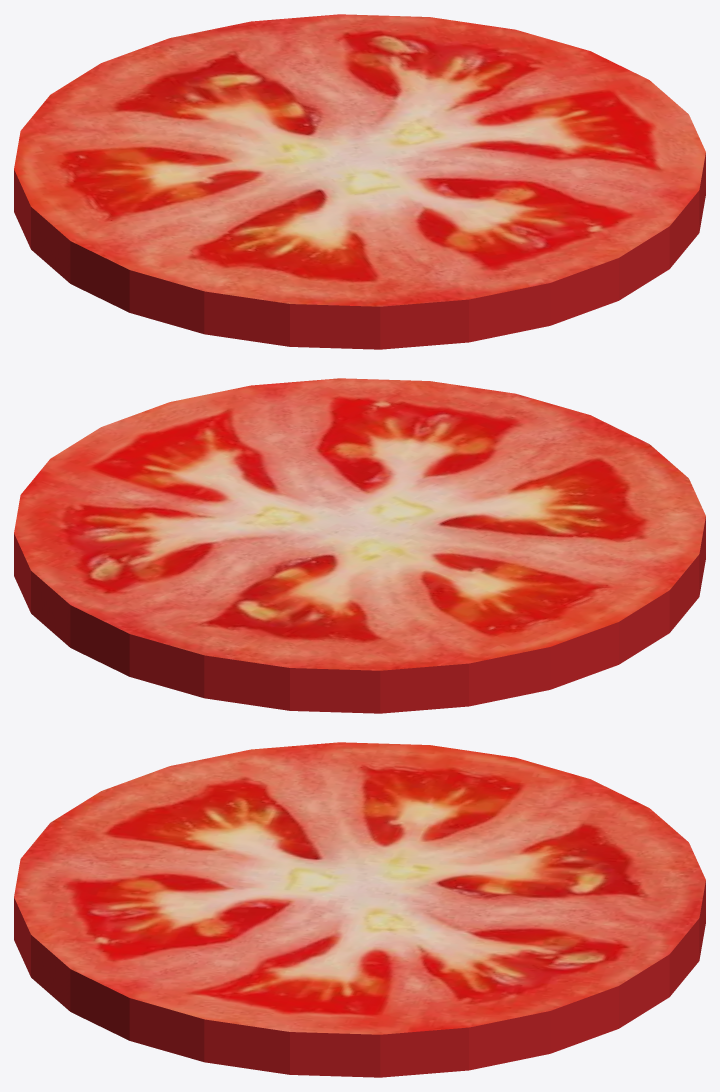
The model's file is tomatoGO.fbx.
The picture shows the model from 3 angles, top to bottom: view 1: azimuth 30°, elevation 25°; view 2: azimuth 150°, elevation 25°; view 3: azimuth 270°, elevation 25°; orthographic projection.
Visible parts, largest first — view 1: Cylinder.070; view 2: Cylinder.070; view 3: Cylinder.070.
Part boxes in pixels (<box>): Cylinder.070: <box>14,14,705,349</box>; Cylinder.070: <box>14,378,705,713</box>; Cylinder.070: <box>14,742,705,1077</box>.
Bounding box in the file's own units: 14.58 × 0.9983 × 14.58.
Materials: 2 (1 with a texture image).
